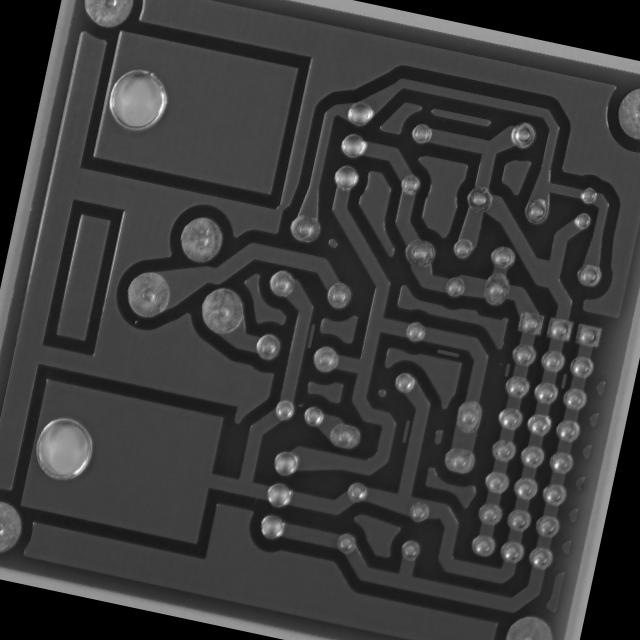spurious_copper: (430, 339, 464, 364), (395, 414, 414, 450), (300, 319, 320, 351), (553, 368, 573, 392), (497, 357, 516, 381)
